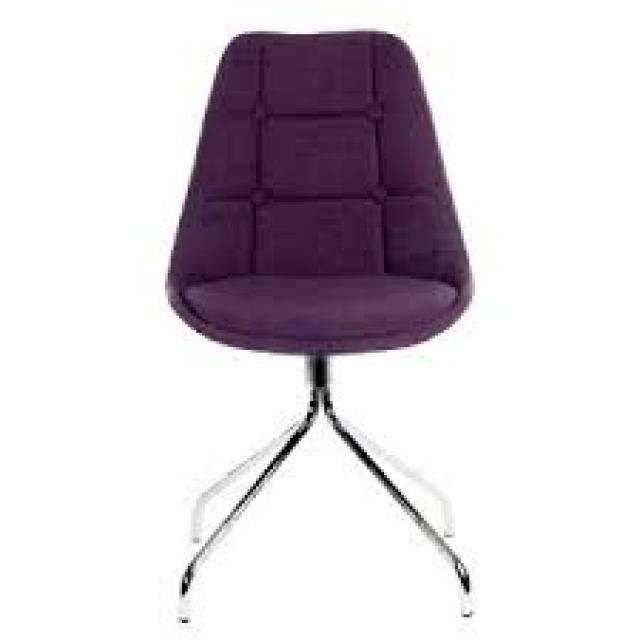chair: (69, 9, 511, 638)
